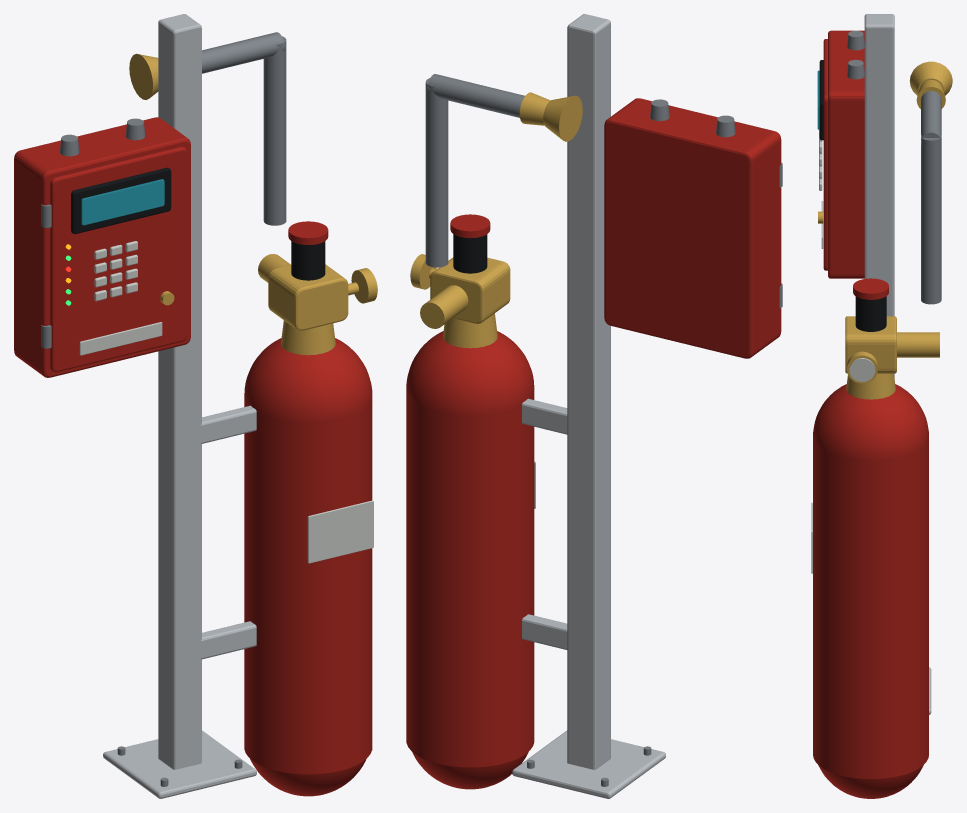
The picture shows the model from 3 angles, left to right: view 1: azimuth 30°, elevation 25°; view 2: azimuth 150°, elevation 25°; view 3: azimuth 270°, elevation 25°; orthographic projection. The views are drawn at different scales.
Parts seen in each view (by area): view 1: cylinder_shell, mounting_post, panel_door, panel_enclosure, cylinder_dome, post_base_plate, discharge_hose, valve_head, cylinder_label_plate, cylinder_skirt, panel_display, panel_display_bezel (+10 smaller); view 2: cylinder_shell, panel_enclosure, mounting_post, cylinder_dome, post_base_plate, discharge_hose, valve_head, cylinder_skirt, discharge_elbow, cylinder_foot_dome, nozzle_head, valve_neck (+6 smaller); view 3: cylinder_shell, panel_enclosure, mounting_post, cylinder_dome, discharge_hose, cylinder_skirt, valve_head, cylinder_foot_dome, panel_door, discharge_outlet, actuator_body, valve_neck (+9 smaller).
Part boxes in pixels (x1=…): cylinder_shell: x1=244, y1=398, x2=372, y2=759; mounting_post: x1=158, y1=14, x2=201, y2=769; panel_door: x1=50, y1=146, x2=187, y2=372; panel_enclosure: x1=14, y1=117, x2=190, y2=377; cylinder_dome: x1=244, y1=338, x2=372, y2=423; post_base_plate: x1=103, y1=730, x2=256, y2=798; discharge_hose: x1=263, y1=36, x2=286, y2=225; valve_head: x1=268, y1=264, x2=348, y2=330; cylinder_label_plate: x1=307, y1=500, x2=373, y2=563; cylinder_skirt: x1=244, y1=725, x2=372, y2=774; panel_display: x1=81, y1=179, x2=164, y2=225; panel_display_bezel: x1=71, y1=167, x2=171, y2=234; cylinder_shell: x1=406, y1=391, x2=534, y2=752; panel_enclosure: x1=604, y1=98, x2=781, y2=358; mounting_post: x1=567, y1=14, x2=610, y2=769; cylinder_dome: x1=406, y1=331, x2=534, y2=416; post_base_plate: x1=512, y1=730, x2=665, y2=798; discharge_hose: x1=425, y1=78, x2=448, y2=267; valve_head: x1=430, y1=257, x2=510, y2=323; cylinder_skirt: x1=406, y1=717, x2=534, y2=767; discharge_elbow: x1=427, y1=74, x2=524, y2=117; cylinder_foot_dome: x1=412, y1=751, x2=528, y2=789; nozzle_head: x1=543, y1=95, x2=582, y2=141; valve_neck: x1=443, y1=313, x2=497, y2=348; cylinder_shell: x1=813, y1=438, x2=928, y2=765; panel_enclosure: x1=828, y1=30, x2=864, y2=278; mounting_post: x1=864, y1=14, x2=894, y2=377; cylinder_dome: x1=813, y1=384, x2=928, y2=461; discharge_hose: x1=921, y1=135, x2=941, y2=304; cylinder_skirt: x1=813, y1=734, x2=928, y2=778; valve_head: x1=845, y1=316, x2=896, y2=373; cylinder_foot_dome: x1=818, y1=765, x2=923, y2=798; panel_door: x1=823, y1=39, x2=827, y2=270; discharge_outlet: x1=897, y1=332, x2=939, y2=357; actuator_body: x1=855, y1=296, x2=886, y2=331; valve_neck: x1=846, y1=373, x2=895, y2=399.
Size of the model in its own units: 0.8417 by 1.85 by 0.329.
